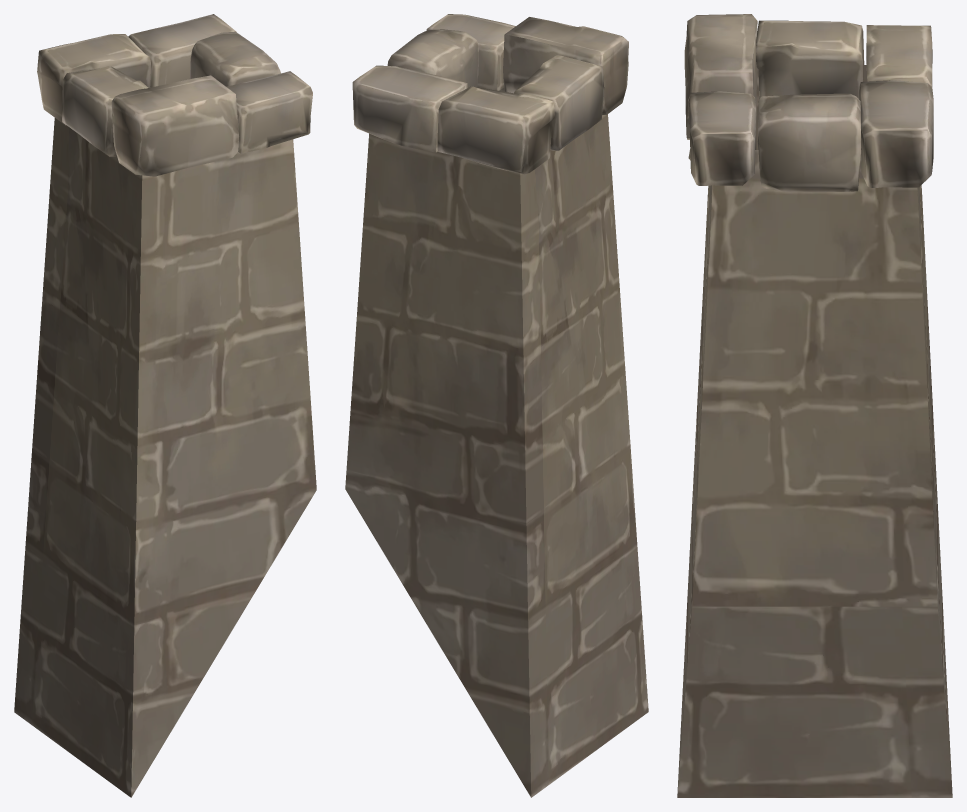
File: Prop_Chimney.glb
The picture shows the model from 3 angles, left to right: view 1: azimuth 30°, elevation 25°; view 2: azimuth 150°, elevation 25°; view 3: azimuth 270°, elevation 25°; orthographic projection. The views are drawn at different scales.
Parts seen in each view (by area): view 1: Prop_Chimney; view 2: Prop_Chimney; view 3: Prop_Chimney.
Part boxes in pixels (left/top/right/bottom): Prop_Chimney: left=14, top=14, right=316, bottom=797; Prop_Chimney: left=345, top=14, right=648, bottom=797; Prop_Chimney: left=677, top=14, right=952, bottom=797.
Size of the model in its own units: 0.9459 by 3.18 by 1.
Materials: 2 (2 with a texture image).
